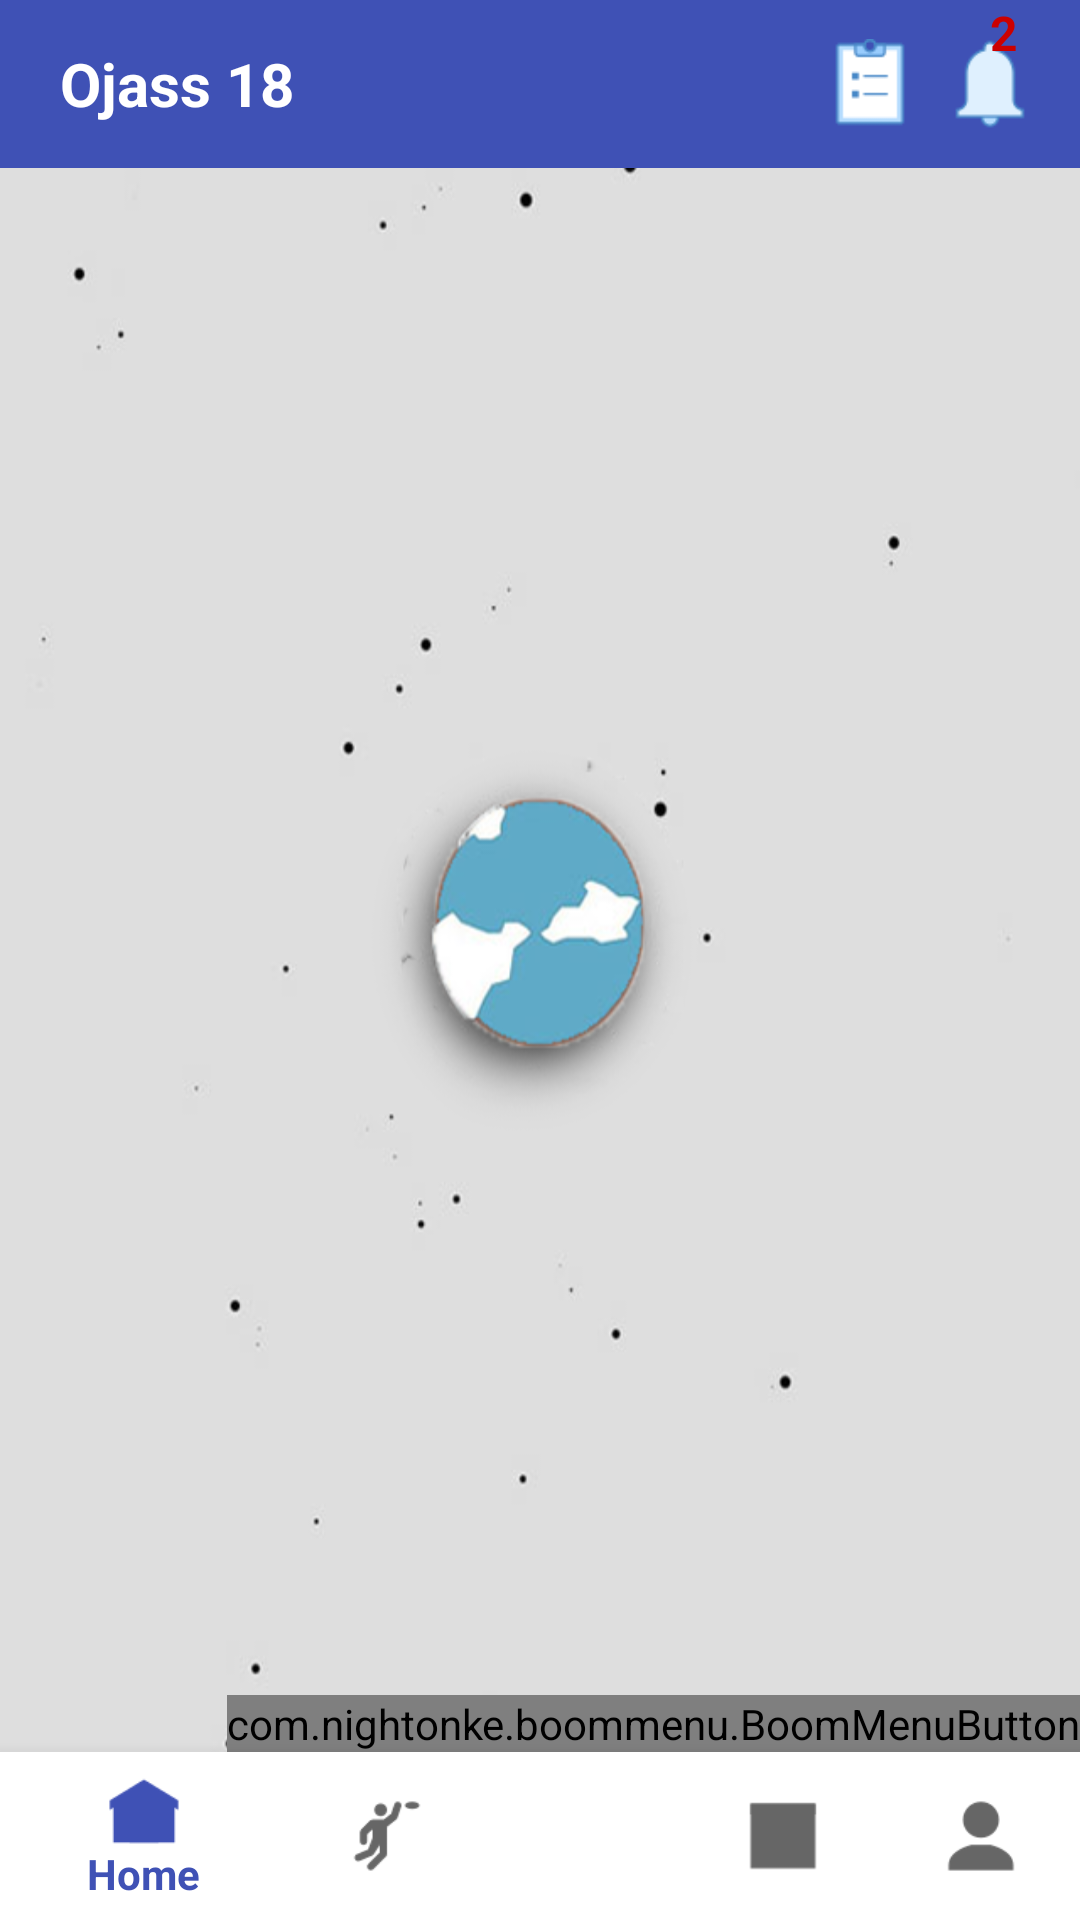

Where icons sit on this 1080 × 1920 app screen, as box(x1, y1, x2, y2):
iconnotification: box(956, 39, 1024, 127)
